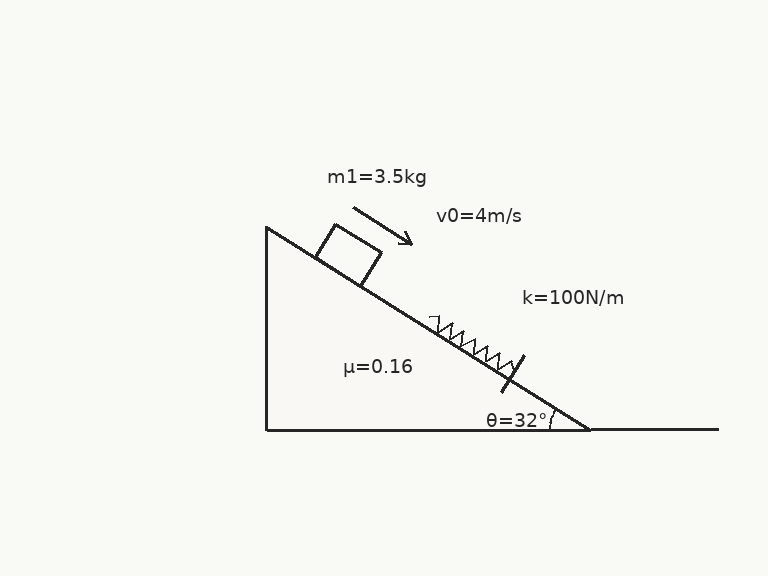block: (313, 222, 383, 287)
ramp: (264, 225, 592, 431)
spring: (428, 314, 516, 373)
